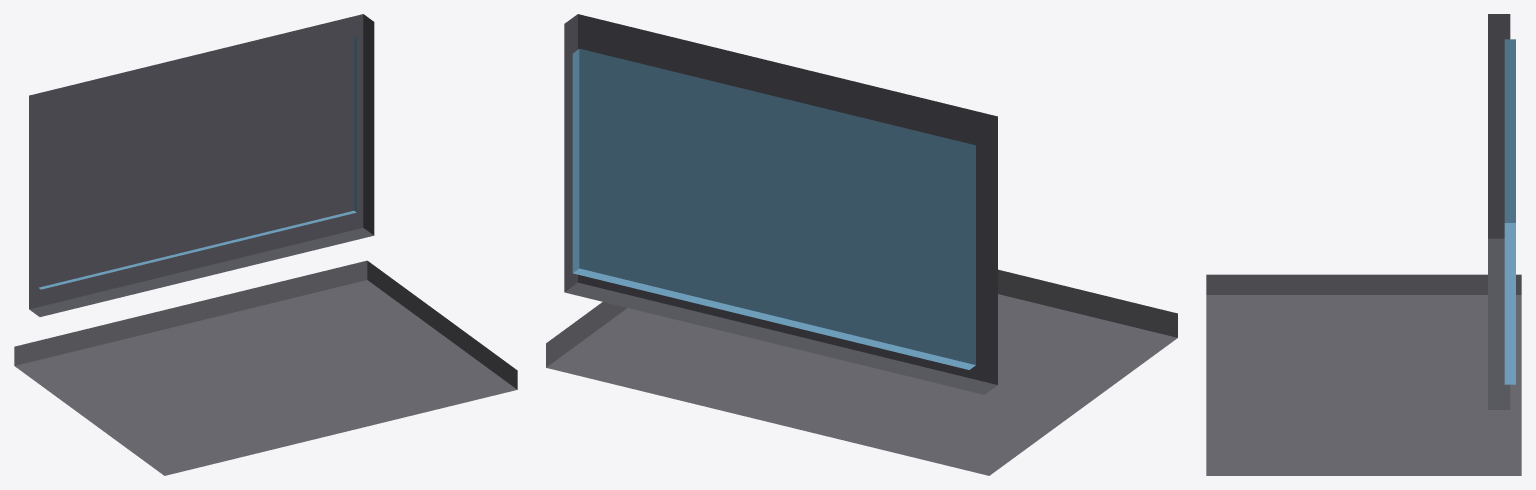
File: laptop.gltf
The picture shows the model from 3 angles, left to right: view 1: azimuth 30°, elevation 25°; view 2: azimuth 150°, elevation 25°; view 3: azimuth 270°, elevation 25°; orthographic projection. The views are drawn at different scales.
Parts seen in each view (by area): view 1: laptop; view 2: laptop; view 3: laptop.
Boxes of the visible parts, box(x1,y1,x2,y2) form: laptop: box(14, 14, 517, 475); laptop: box(546, 14, 1177, 475); laptop: box(1206, 14, 1521, 475).
Size of the model in its own units: 0.38 by 0.28 by 0.28.
